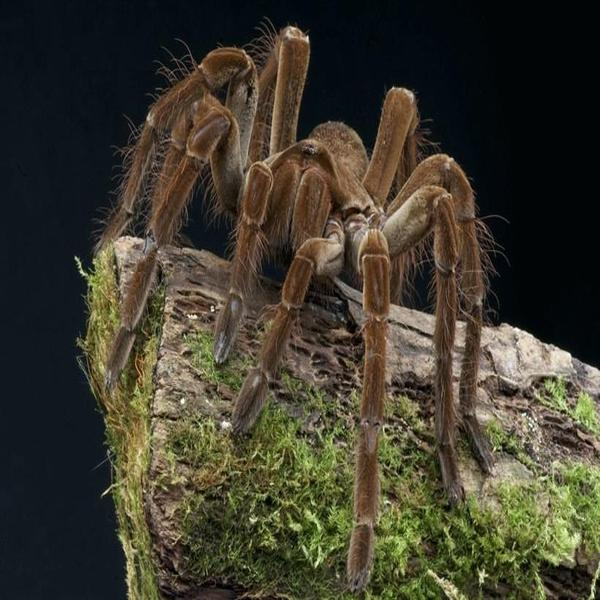Tarantula Spider: (107, 33, 500, 575)
